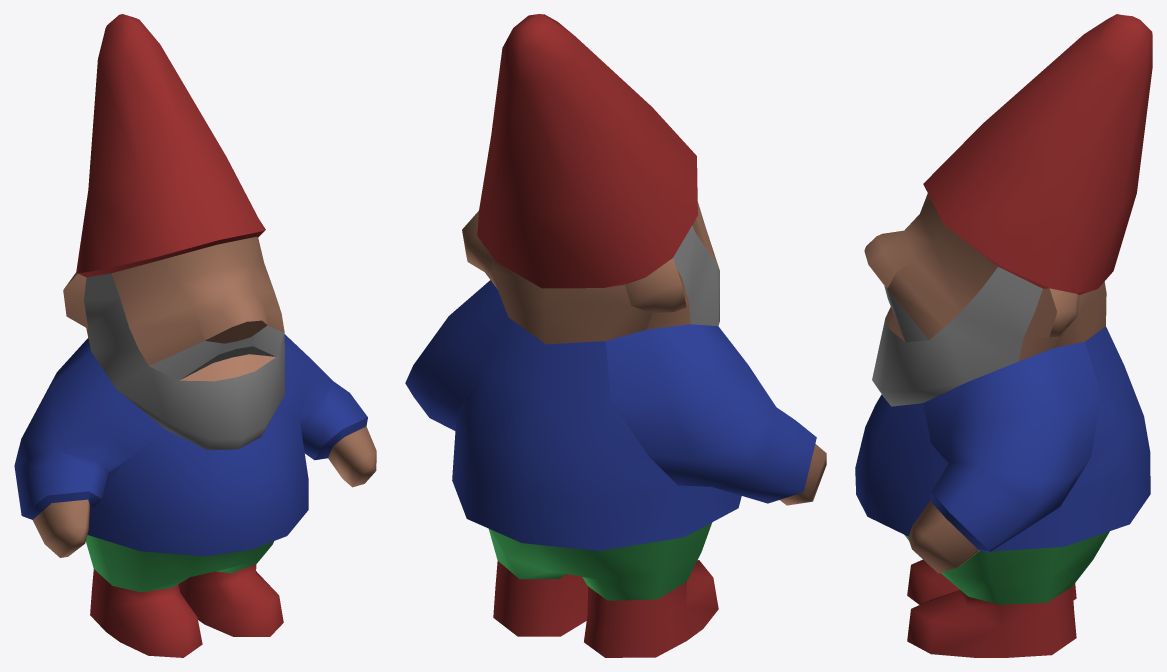
The model's file is toy_gnome_01.fbx.
The picture shows the model from 3 angles, left to right: view 1: azimuth 30°, elevation 25°; view 2: azimuth 150°, elevation 25°; view 3: azimuth 270°, elevation 25°; orthographic projection. The views are drawn at different scales.
Visible parts, largest first — view 1: toy_gnome_01; view 2: toy_gnome_01; view 3: toy_gnome_01.
Part boxes in pixels (x1=…): toy_gnome_01: x1=14, y1=14, x2=376, y2=657; toy_gnome_01: x1=405, y1=14, x2=826, y2=657; toy_gnome_01: x1=855, y1=14, x2=1152, y2=657.
Bounding box in the file's own units: 51.31 × 81.7 × 36.48.
